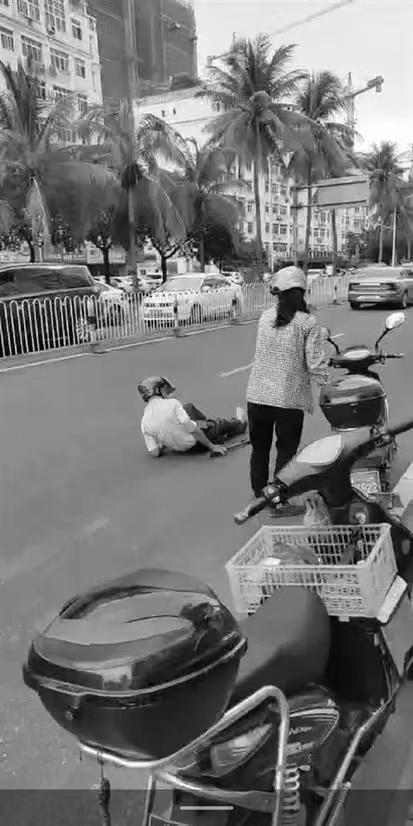down: (124, 364, 255, 455)
up: (238, 262, 333, 505)
